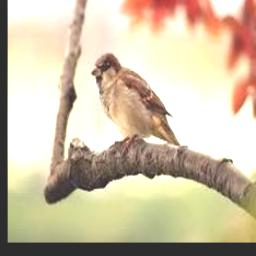Sparrow: (91, 53, 182, 147)
